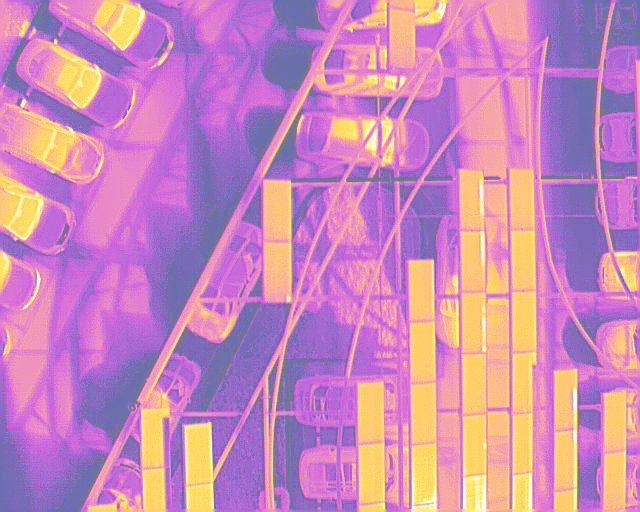Cell: (264, 242, 292, 303), (462, 415, 488, 478)
No-Anomaly: (407, 259, 434, 321), (410, 321, 437, 382), (184, 425, 211, 486), (358, 382, 385, 443), (264, 180, 290, 242), (509, 168, 535, 229), (411, 383, 437, 444), (390, 8, 416, 67), (461, 352, 486, 413), (359, 443, 384, 504), (511, 230, 536, 290), (512, 291, 536, 352), (141, 409, 164, 469), (512, 354, 534, 413), (604, 394, 626, 453), (604, 450, 626, 509), (511, 415, 532, 474)
Unclassified: (458, 170, 485, 232), (412, 442, 437, 505), (461, 230, 485, 292), (554, 370, 578, 430), (462, 293, 486, 352), (554, 431, 577, 490)
